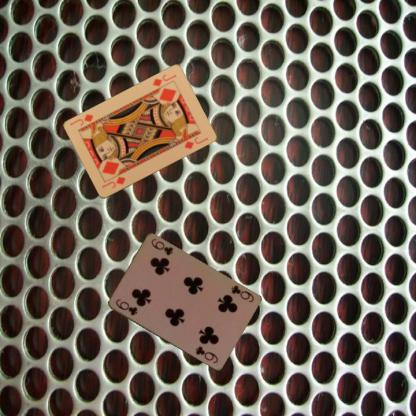6c: (228, 282, 255, 304), (113, 296, 139, 316)
Jd: (99, 174, 127, 190), (150, 72, 177, 87)
